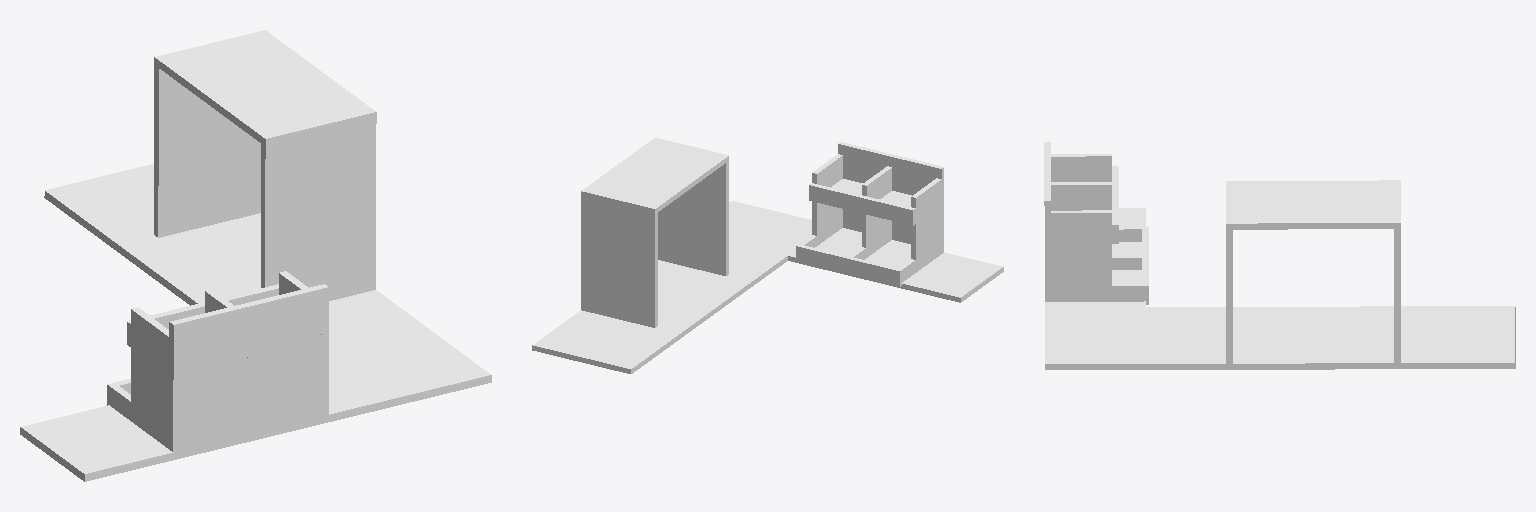
robot.urdf — industrial:
<?xml version="1.0" ?>
<robot name="industrial">
    <link name="industrial_env" type="static">
        <contact>
            <lateral_friction value="0.6"/>
            <rolling_friction value="0.0"/>
        </contact>
        <inertial>
            <mass value="0"/>
            <inertia ixx="0" ixy="0" ixz="0" iyy="0" iyz="0" izz="0"/>
        </inertial>


        <visual>
            <geometry>
                <mesh filename="industrial.obj"/>
            </geometry>
            <material name="white">
                <color rgba="1 1 1 1"/>
            </material>
        </visual>

        <collision>
            <geometry>
                <mesh filename="industrial.obj"/>
            </geometry>
        </collision>
    </link>
</robot>

--- Render facts (derived) ---
The picture shows the robot from 3 angles, left to right: view 1: azimuth 30°, elevation 25°; view 2: azimuth 150°, elevation 25°; view 3: azimuth 270°, elevation 25°; orthographic projection.
Robot: industrial — 1 links, 0 joints (none); root link industrial_env; default pose: all joints at 0.
Visible links, largest first — view 1: industrial_env; view 2: industrial_env; view 3: industrial_env.
Boxes of the visible links, x1=… form: industrial_env: x1=20, y1=30, x2=491, y2=481; industrial_env: x1=532, y1=137, x2=1003, y2=373; industrial_env: x1=1044, y1=142, x2=1515, y2=369.
Size in the robot's own frame: 1.1 by 1.4 by 0.4837 metres.
1 mesh visuals loaded from 1 distinct referenced files (1 OBJ).